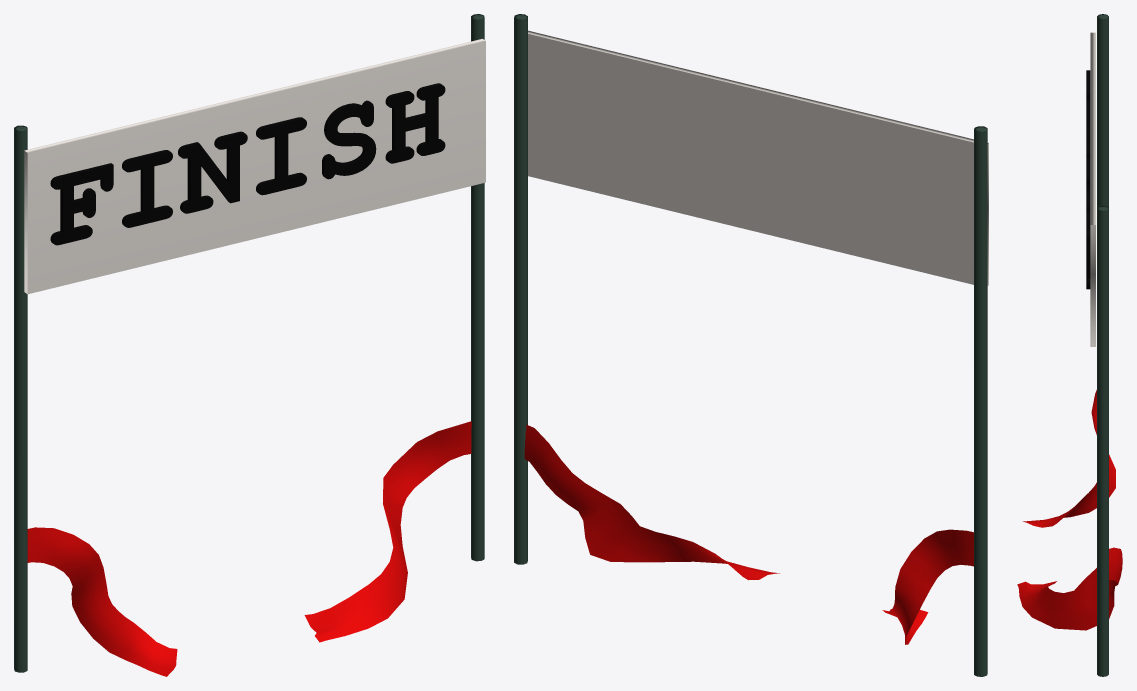
File: meta.fbx
3 views of the same model, side by side, from view 1: azimuth 30°, elevation 25°; view 2: azimuth 150°, elevation 25°; view 3: azimuth 270°, elevation 25° (orthographic). The views are drawn at different scales.
Visible parts, largest first — view 1: GEO_Cartel, GEO_Liston, typeMesh1, GEO_Soportes; view 2: GEO_Cartel, GEO_Soportes, GEO_Liston; view 3: GEO_Soportes, GEO_Liston, GEO_Cartel, typeMesh1.
Part boxes in pixels (box(x1,y1,x2,y2)): GEO_Cartel: box(24, 38, 485, 294); GEO_Liston: box(27, 421, 471, 676); typeMesh1: box(50, 83, 445, 245); GEO_Soportes: box(14, 14, 484, 672); GEO_Cartel: box(528, 30, 988, 285); GEO_Soportes: box(514, 14, 987, 676); GEO_Liston: box(524, 424, 973, 644); GEO_Soportes: box(1097, 14, 1108, 676); GEO_Liston: box(1017, 390, 1122, 630); GEO_Cartel: box(1090, 32, 1095, 346); typeMesh1: box(1086, 70, 1090, 289).
Bounding box in the file's own units: 284 × 313 × 64.25.
